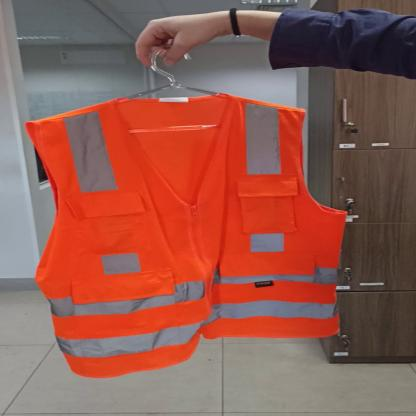colete: (23, 91, 354, 380)
